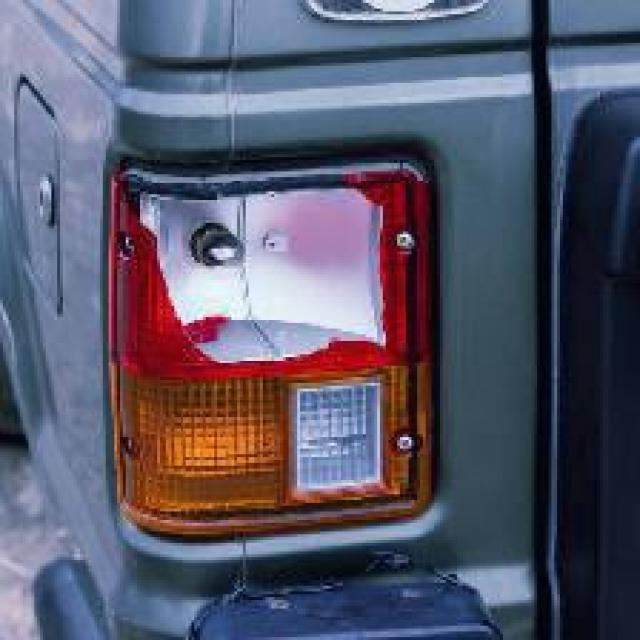damaged: (111, 172, 398, 372)
